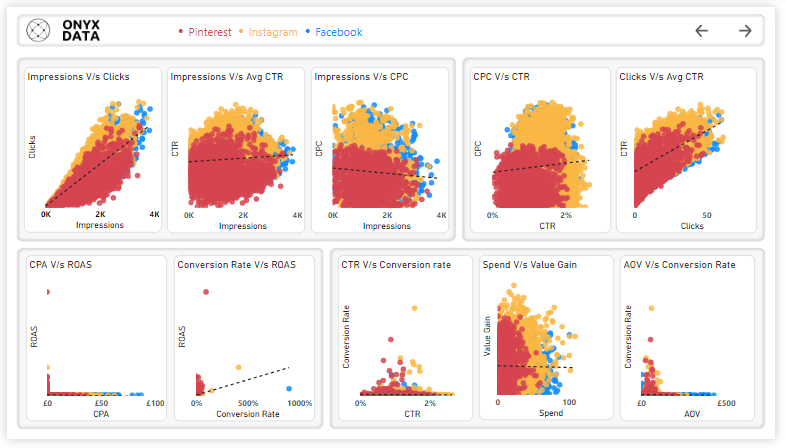

What the dashboard file says about the page in this screenshot:
{"tool":"powerbi","page":{"name":"Correlations","canvas":[1280,720],"ordinal":2},"visuals":[{"type":"scatterChart","title":"Impressions V/s Clicks ","fields":{"X":["__Measures.Impressions"],"Category":["data.Index"],"Y":["Sum(data.Clicks)"],"Series":["data.Channel"]},"box":[27.8,99.6,230,276],"z":0},{"type":"scatterChart","title":"Impressions V/s Avg CTR","fields":{"X":["__Measures.Impressions"],"Category":["data.Index"],"Series":["data.Channel"],"Y":["Sum(data.CTR, %)"]},"box":[266.9,99.6,230,276.7],"z":1000},{"type":"scatterChart","title":"Clicks V/s Avg CTR","fields":{"Category":["data.Index"],"Series":["data.Channel"],"X":["Sum(data.Clicks)"],"Y":["Sum(data.CTR, %)"]},"box":[1014.5,99.6,235,276.7],"z":2000},{"type":"scatterChart","title":"CPC V/s CTR","fields":{"Category":["data.Index"],"Series":["data.Channel"],"X":["Sum(data.CTR, %)"],"Y":["__Measures.CPC"]},"box":[771.1,99.6,235,276.7],"z":3000},{"type":"scatterChart","title":"CPA V/s ROAS","fields":{"Category":["data.Index"],"Series":["data.Channel"],"Y":["__Measures.Revenue on Ad Spend (ROAS)"],"X":["__Measures.Cost per Conversion (CPA)"]},"box":[31.7,413.3,235,276.7],"z":4000},{"type":"scatterChart","title":"Conversion Rate V/s ROAS","fields":{"Category":["data.Index"],"Series":["data.Channel"],"Y":["__Measures.Revenue on Ad Spend (ROAS)"],"X":["__Measures.Conversion Rate"]},"box":[278.3,413.3,235,276.7],"z":5000},{"type":"scatterChart","title":"CTR V/s Conversion rate","fields":{"Category":["data.Index"],"Series":["data.Channel"],"X":["Sum(data.CTR, %)"],"Y":["__Measures.Conversion Rate"]},"box":[551.7,413.3,225,276.7],"z":6000},{"type":"scatterChart","title":"AOV V/s Conversion Rate","fields":{"Category":["data.Index"],"Series":["data.Channel"],"Y":["__Measures.Conversion Rate"],"X":["__Measures.Avg Order Value (AOV)"]},"box":[1021.7,413.3,225,276.7],"z":7000},{"type":"scatterChart","title":"Impressions V/s CPC","fields":{"X":["__Measures.Impressions"],"Category":["data.Index"],"Series":["data.Channel"],"Y":["__Measures.CPC"]},"box":[506.1,99.6,230,276.7],"z":8000},{"type":"scatterChart","title":"Spend V/s Value Gain","fields":{"X":["Sum(data.Spend, GBP)"],"Category":["data.Index"],"Series":["data.Channel"],"Y":["Sum(data.Value Gain)"]},"box":[786.7,413.3,225,275],"z":9000},{"type":"actionButton","box":[1214.4,24.3,30,30],"z":10000},{"type":"actionButton","box":[1143,24.3,30,30],"z":11000},{"type":"textbox","box":[267.9,14.2,352.9,51],"z":12000}]}

Visuals, with their boxes in screenshot pixels (x1, y1, x2, y2), scaled from the page's 1280x720 canvas onto the 786x448 screenshot:
"Impressions V/s Clicks " scatterChart: left=17, top=62, right=158, bottom=234
"Impressions V/s Avg CTR" scatterChart: left=164, top=62, right=305, bottom=234
"Clicks V/s Avg CTR" scatterChart: left=623, top=62, right=767, bottom=234
"CPC V/s CTR" scatterChart: left=474, top=62, right=618, bottom=234
"CPA V/s ROAS" scatterChart: left=19, top=257, right=164, bottom=429
"Conversion Rate V/s ROAS" scatterChart: left=171, top=257, right=315, bottom=429
"CTR V/s Conversion rate" scatterChart: left=339, top=257, right=477, bottom=429
"AOV V/s Conversion Rate" scatterChart: left=627, top=257, right=766, bottom=429
"Impressions V/s CPC" scatterChart: left=311, top=62, right=452, bottom=234
"Spend V/s Value Gain" scatterChart: left=483, top=257, right=621, bottom=428
actionButton: left=746, top=15, right=764, bottom=34
actionButton: left=702, top=15, right=720, bottom=34
textbox: left=165, top=9, right=381, bottom=41
